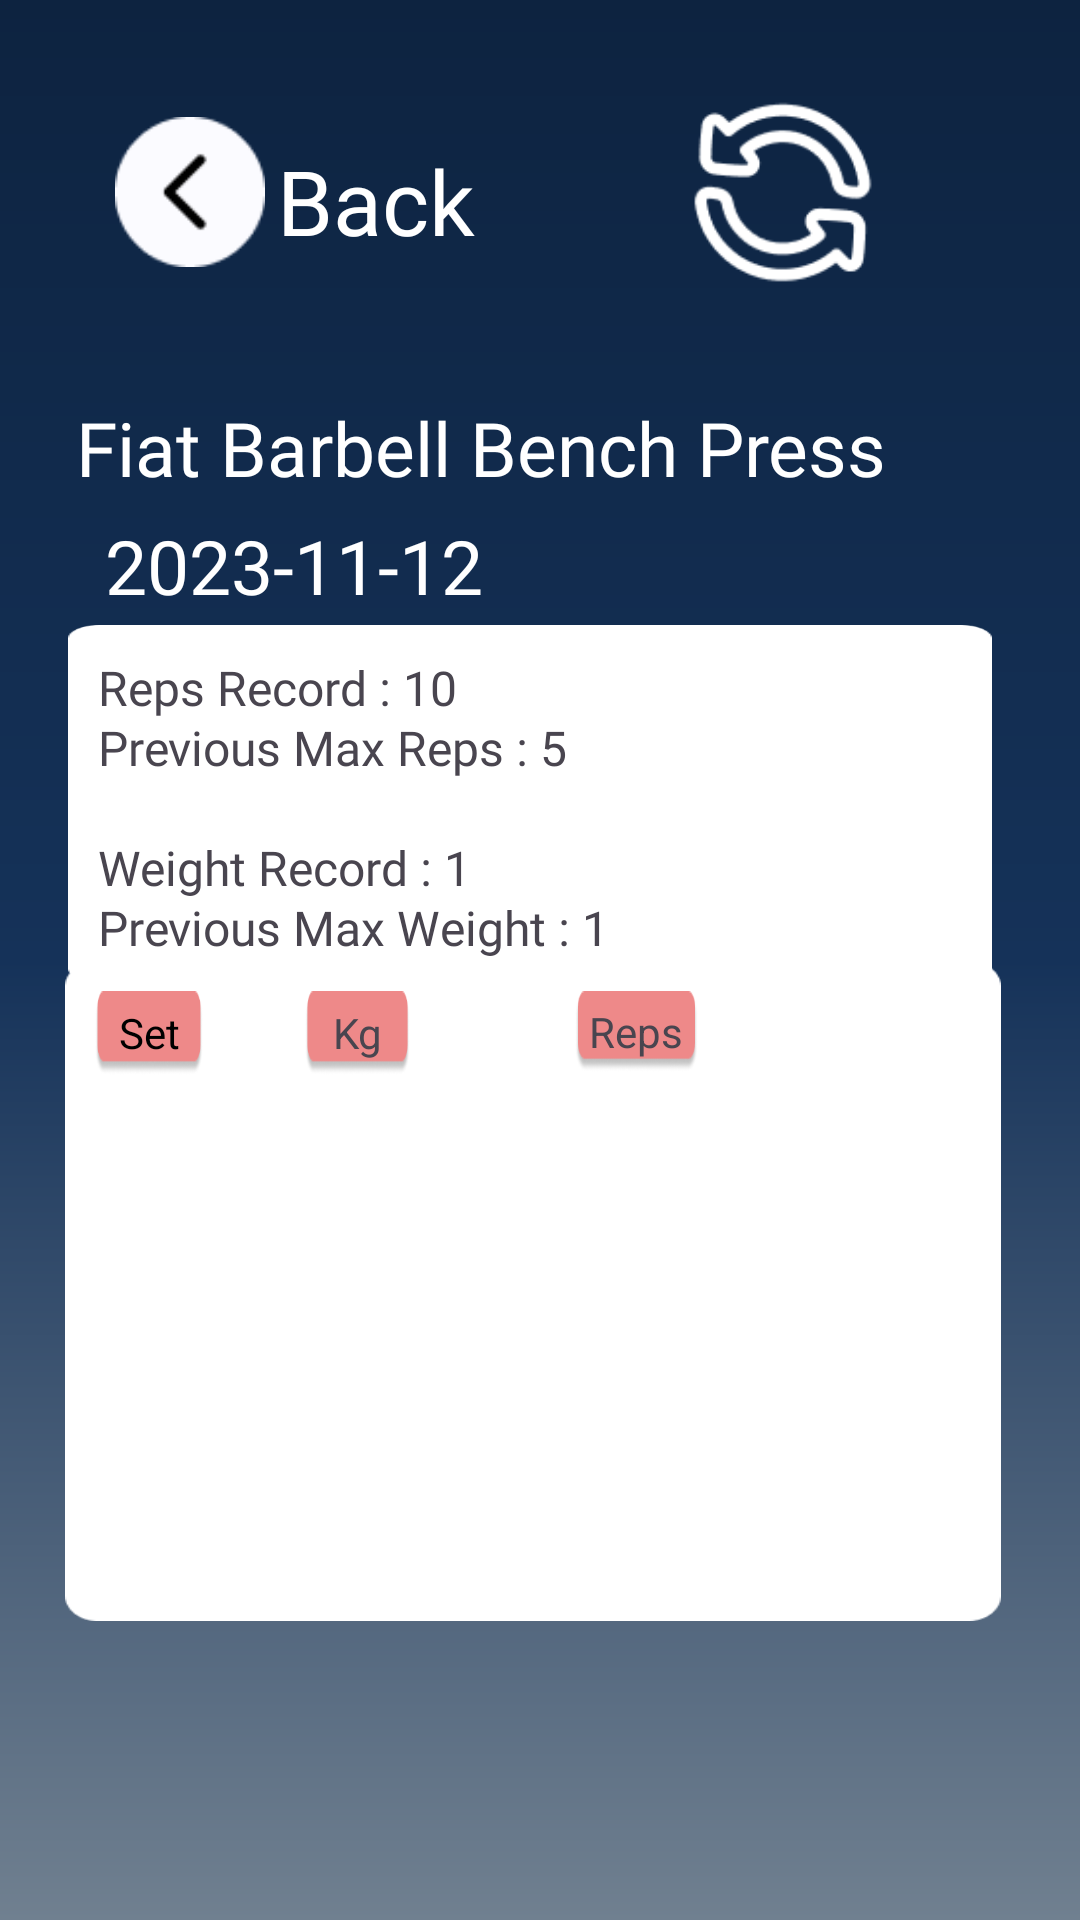

Where icons sit on this 1080 x 1920 app screen, as {"x1": x1, "y1": y1, "x2": x2, "y2": y2}:
chervon left: {"x1": 115, "y1": 117, "x2": 265, "y2": 267}
updateicon: {"x1": 694, "y1": 103, "x2": 872, "y2": 282}
